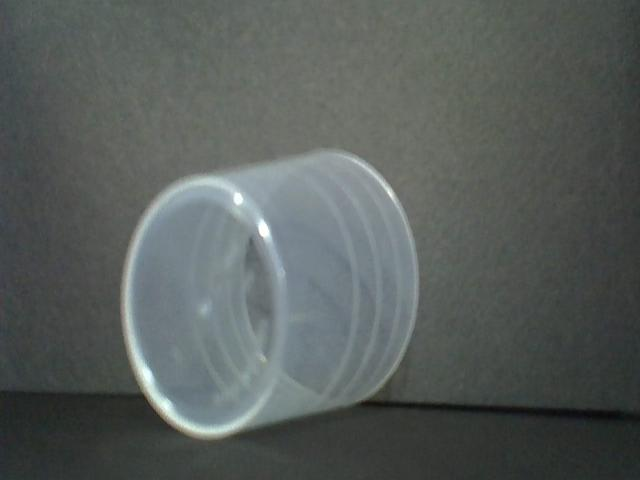cup: (114, 149, 428, 451)
